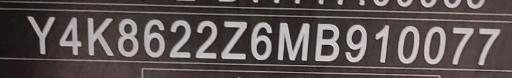letter: (276, 21, 310, 63), (26, 13, 56, 55), (86, 15, 116, 57), (56, 14, 84, 56), (220, 19, 248, 60), (313, 21, 341, 62), (476, 23, 502, 64), (166, 18, 192, 58), (342, 23, 368, 63), (422, 24, 448, 64), (116, 17, 140, 58), (142, 17, 166, 58), (249, 20, 273, 61), (396, 23, 420, 64), (451, 24, 475, 64), (194, 20, 218, 58), (372, 21, 390, 62)
